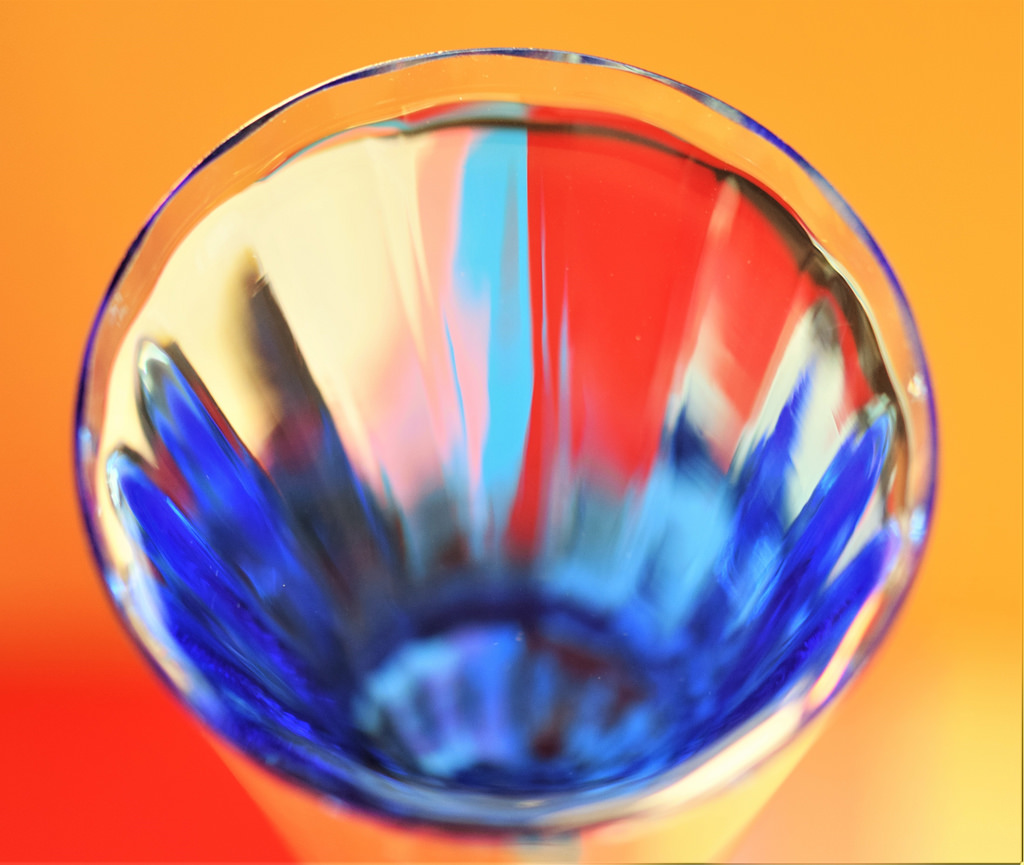glass of water: (105, 128, 950, 837)
